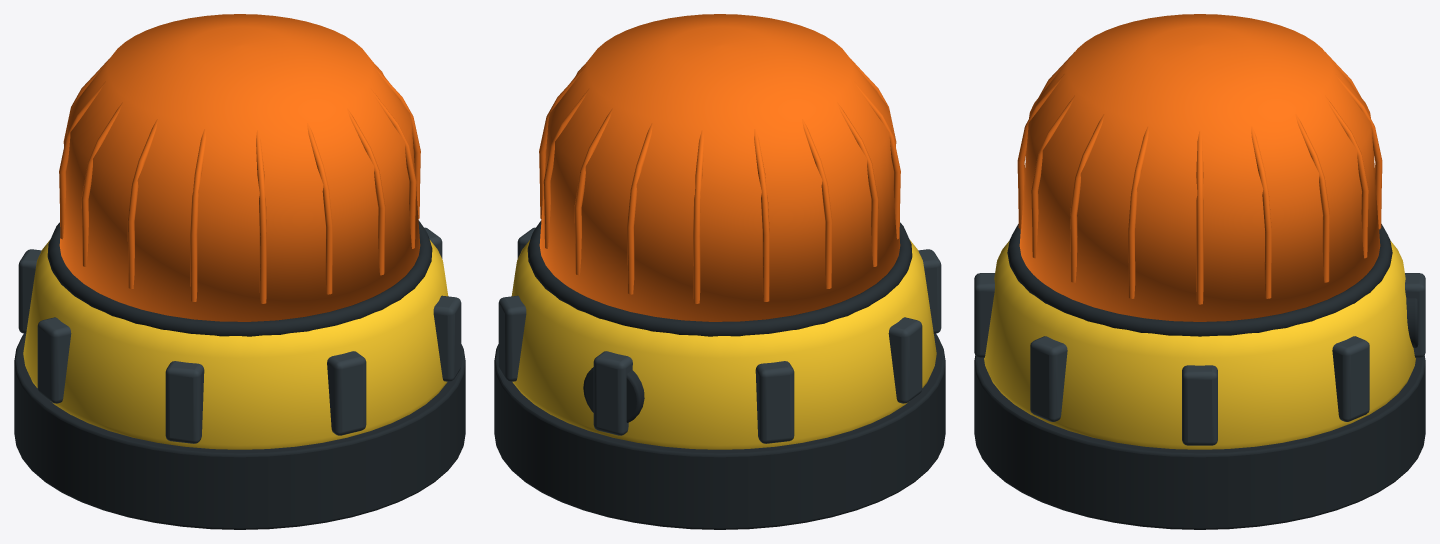
File: emergency_beacon.glb
3 renders of one model, left to right at view 1: azimuth 30°, elevation 25°; view 2: azimuth 150°, elevation 25°; view 3: azimuth 270°, elevation 25°, orthographic.
Parts seen in each view (by area): view 1: emergency_beacon_render_mesh; view 2: emergency_beacon_render_mesh; view 3: emergency_beacon_render_mesh.
Part boxes in pixels (<box>): emergency_beacon_render_mesh: <box>14,14,465,529</box>; emergency_beacon_render_mesh: <box>494,14,945,529</box>; emergency_beacon_render_mesh: <box>974,14,1425,529</box>.
Bounding box in the file's own units: 0.15 × 0.143 × 0.15.
